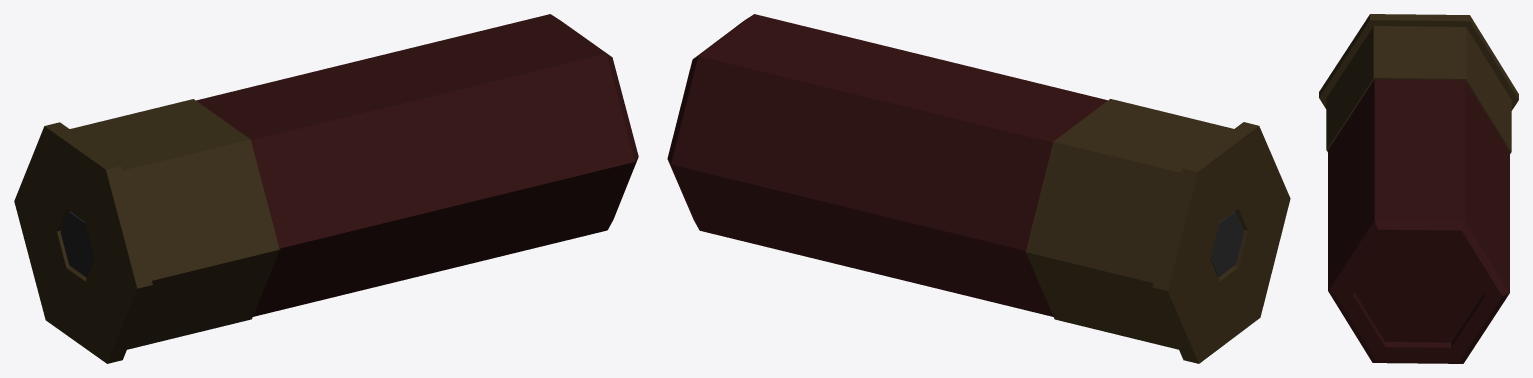
Rendered from 12gauge.obj.
3 views of the same model, side by side, from view 1: azimuth 30°, elevation 25°; view 2: azimuth 150°, elevation 25°; view 3: azimuth 270°, elevation 25° (orthographic). The views are drawn at different scales.
Parts seen in each view (by area): view 1: bulletModel; view 2: bulletModel; view 3: bulletModel.
Boxes of the visible parts, x1,y1,x2,y2 form: bulletModel: [14, 14, 638, 363]; bulletModel: [667, 14, 1290, 363]; bulletModel: [1319, 14, 1518, 363].
Bounding box in the file's own units: 1.53 × 0.5564 × 0.6381.
